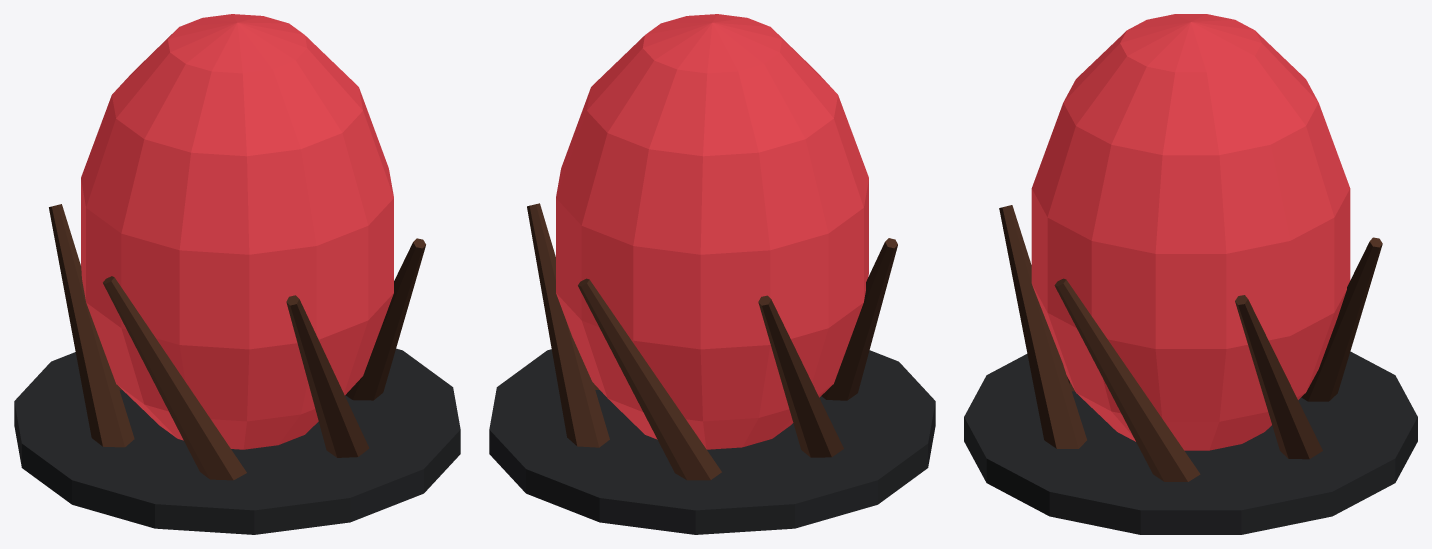
Rendered from egg_pod.glb.
The picture shows the model from 3 angles, left to right: view 1: azimuth 30°, elevation 25°; view 2: azimuth 150°, elevation 25°; view 3: azimuth 270°, elevation 25°; orthographic projection.
Parts seen in each view (by area): view 1: body; view 2: body; view 3: body.
Boxes of the visible parts, left/top/right/bottom form: body: left=14, top=14, right=460, bottom=534; body: left=489, top=14, right=935, bottom=534; body: left=964, top=14, right=1417, bottom=534.
Bounding box in the file's own units: 0.9749 × 1.04 × 1.
3 materials, 1 textured.
